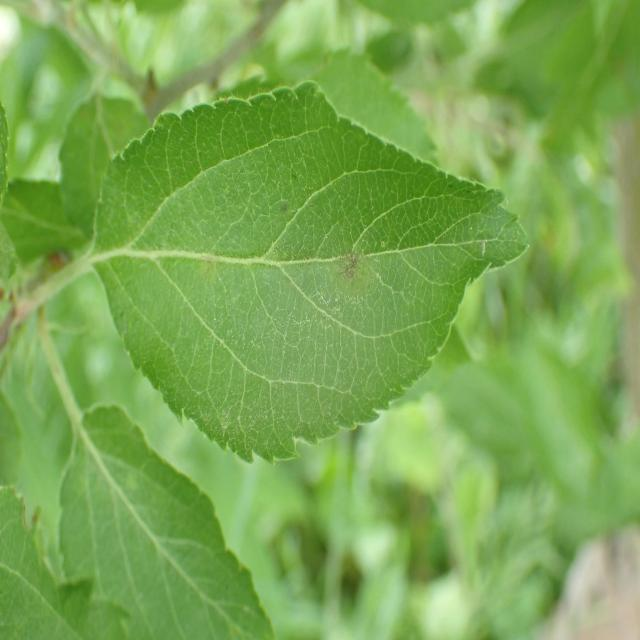scab: (197, 198, 367, 315)
